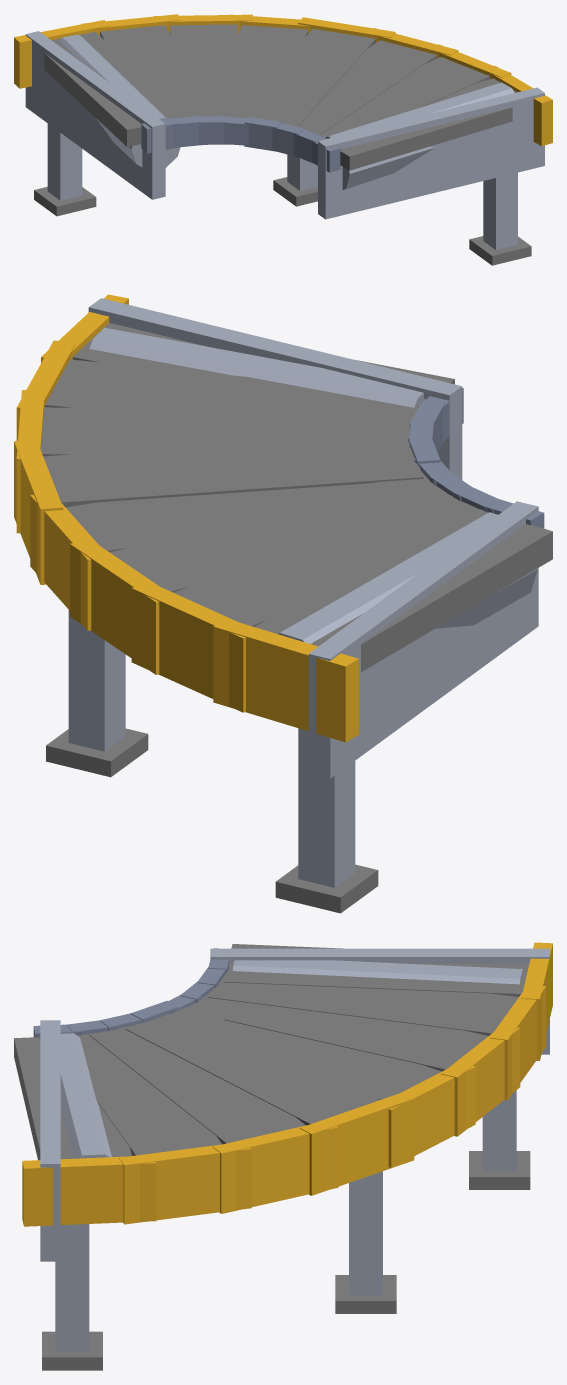
The model's file is conveyor_corner.glb.
3 views of the same model, one above another, from view 1: azimuth 30°, elevation 25°; view 2: azimuth 150°, elevation 25°; view 3: azimuth 270°, elevation 25° (orthographic). The views are drawn at different scales.
Parts seen in each view (by area): view 1: conveyor_corner; view 2: conveyor_corner; view 3: conveyor_corner.
Boxes of the visible parts, x1,y1,x2,y2 form: conveyor_corner: [14, 14, 552, 265]; conveyor_corner: [14, 294, 552, 913]; conveyor_corner: [14, 942, 552, 1370].
Size of the model in its own units: 1.5 by 0.66 by 1.5.
